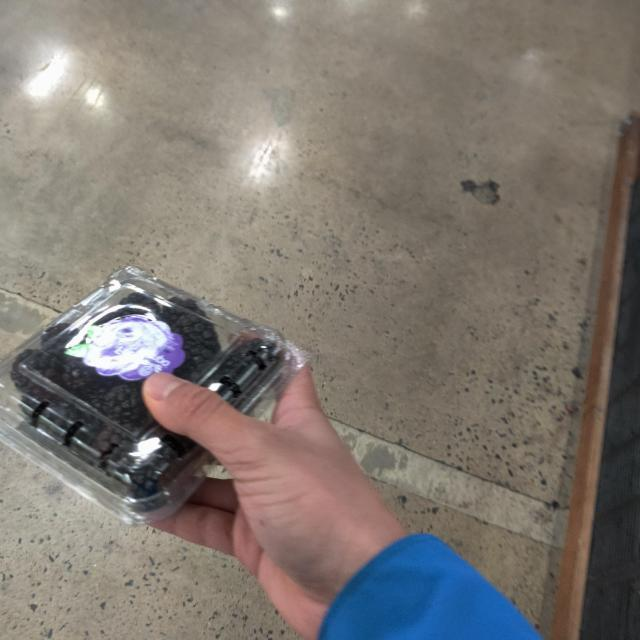Lettuce: (0, 266, 301, 520)
